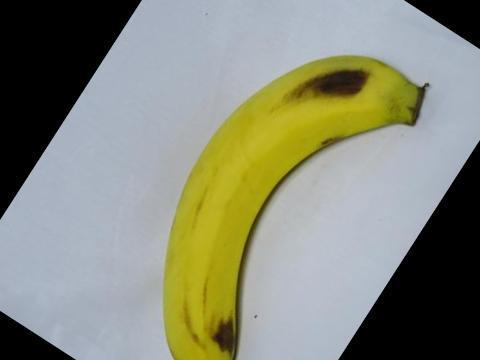freshripe: (141, 43, 429, 359)
